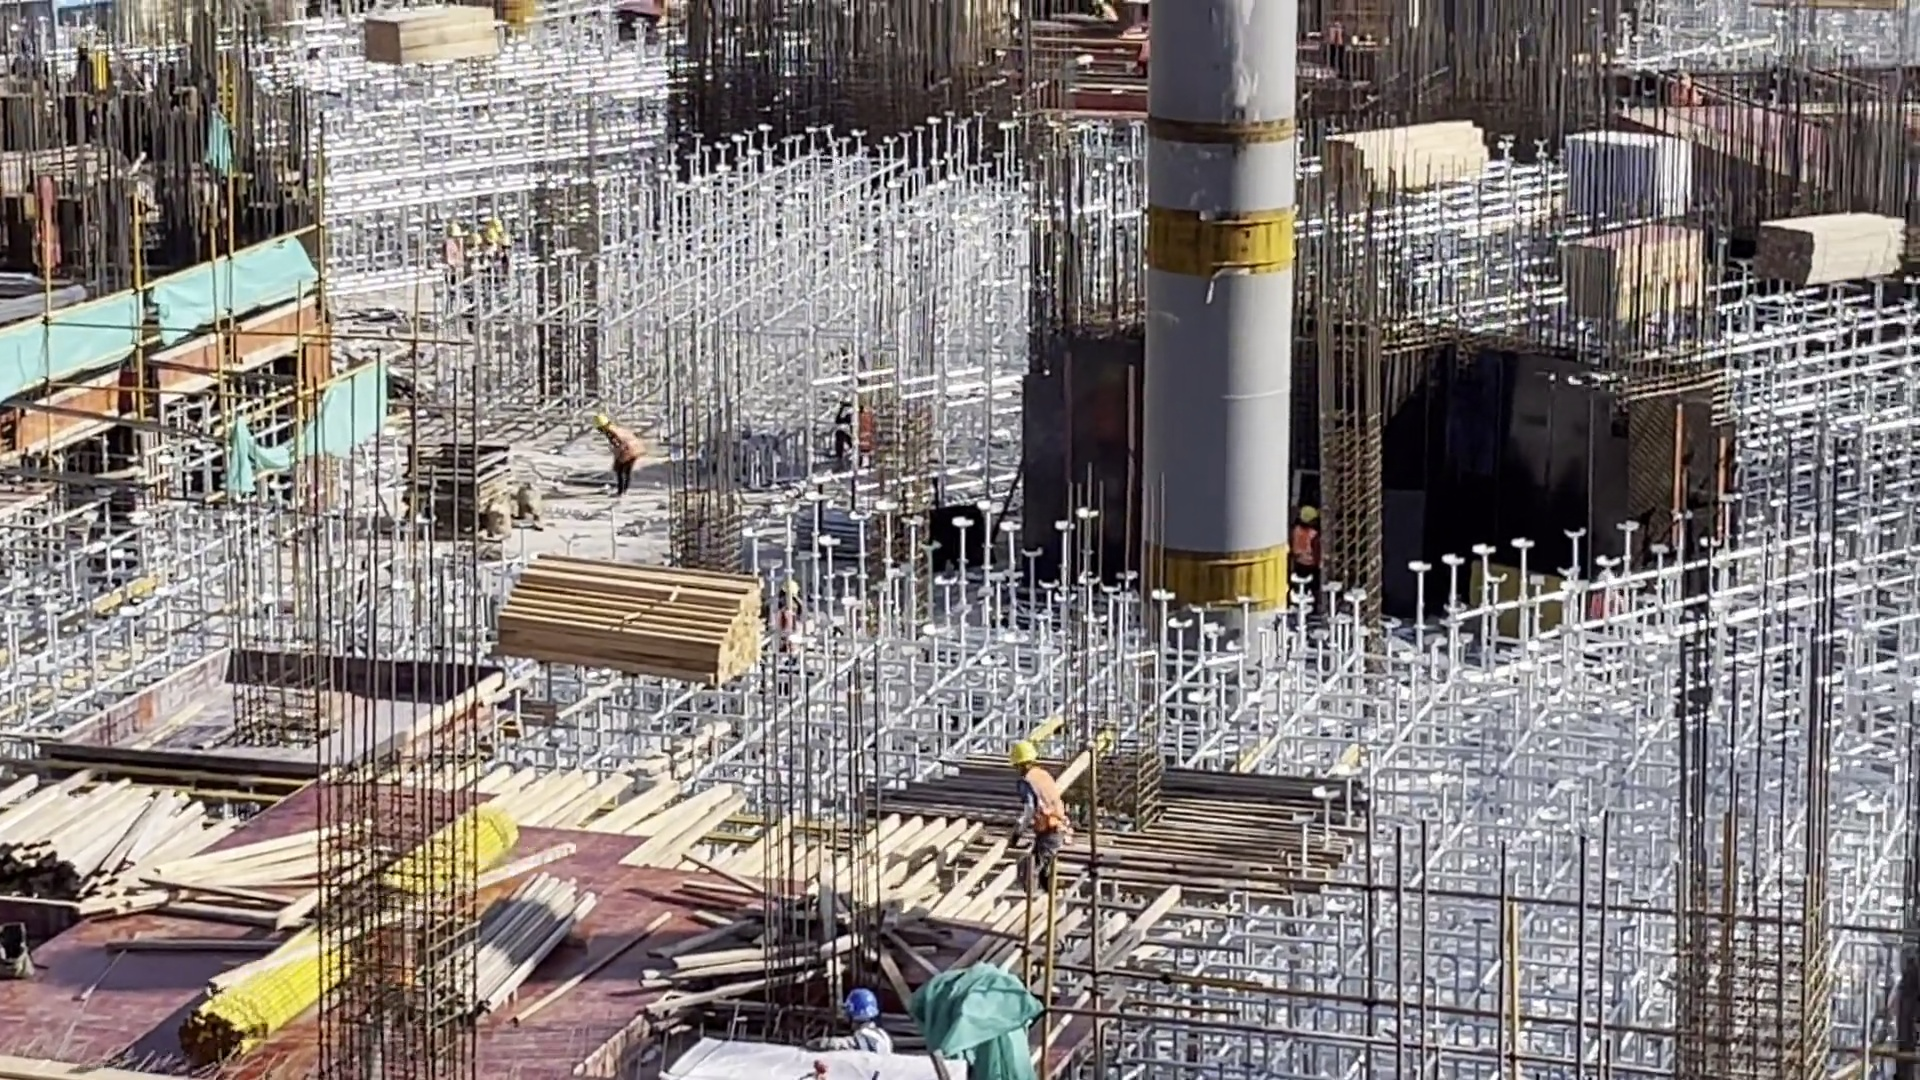board: (1556, 221, 1704, 324)
helmet: (840, 989, 889, 1023), (1004, 738, 1039, 764), (592, 413, 612, 431), (1299, 506, 1318, 524)
person: (1000, 737, 1076, 855), (804, 987, 896, 1059), (593, 413, 648, 495), (1287, 504, 1320, 584)
vest: (1022, 768, 1066, 834), (1291, 528, 1318, 578), (608, 428, 643, 462)
wood: (1, 770, 324, 935), (484, 558, 766, 686), (1325, 113, 1494, 211), (1748, 203, 1899, 293), (358, 1, 505, 66)
